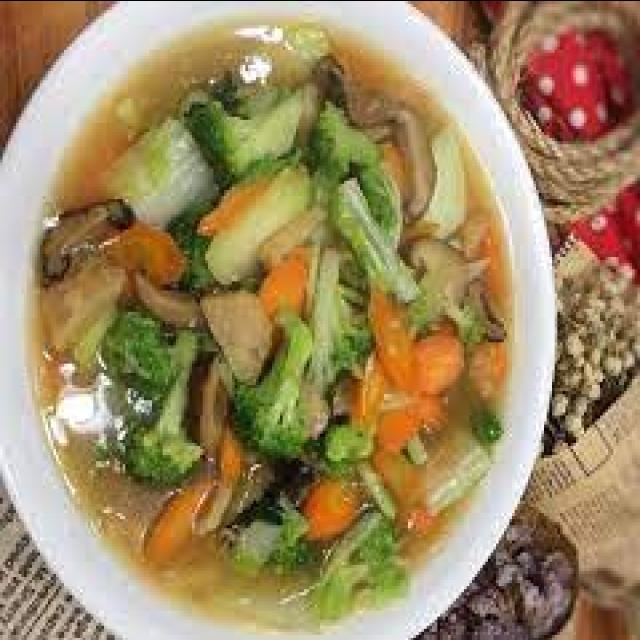capcay: (37, 24, 507, 631)
